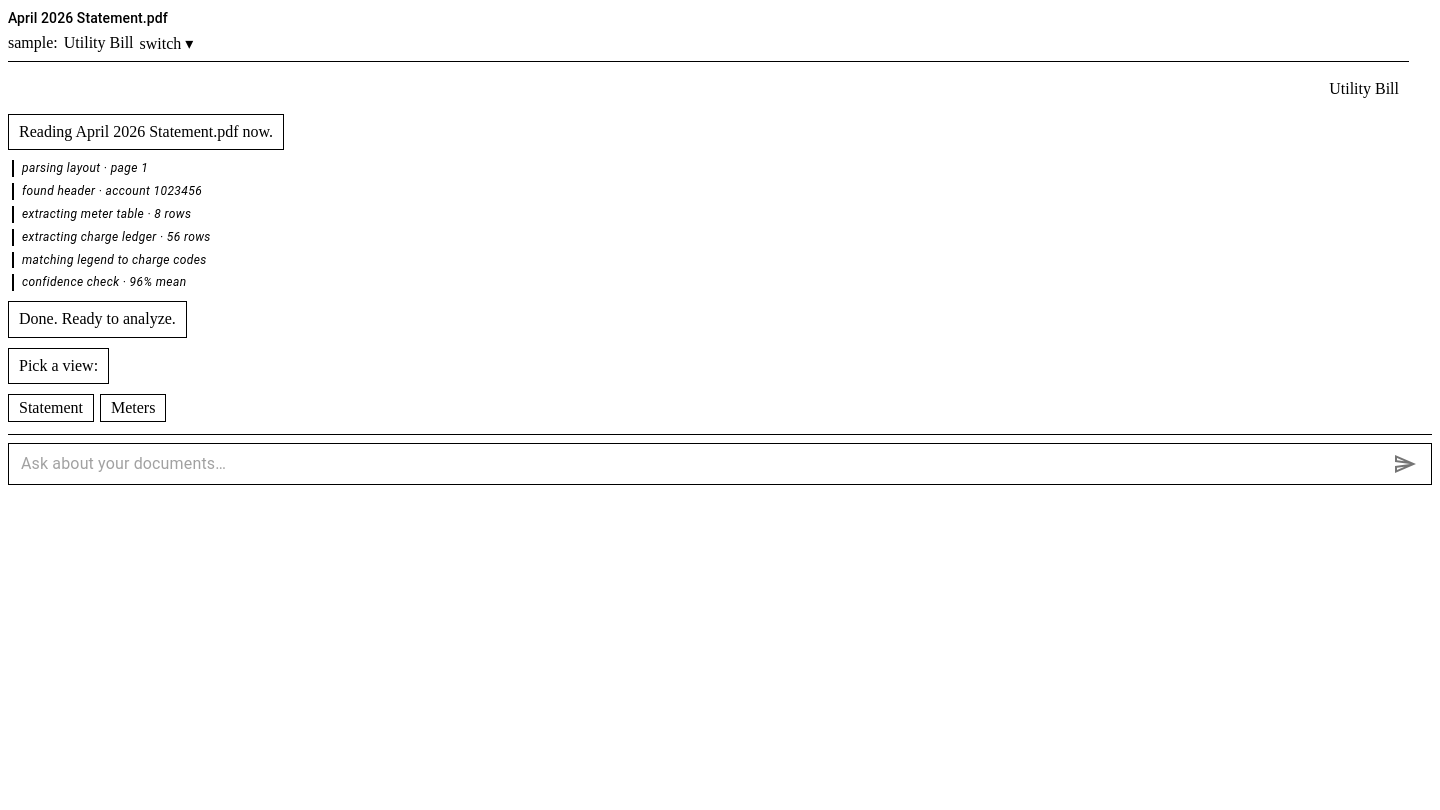
ChatColumn › chat input (CF-18) › 504 → renders 'took too long' copy (CF-08)
Type "Q" into the field with placeholder "Ask about your documents…".
click(702, 464); type("Q")  # box [21,448,1383,480]
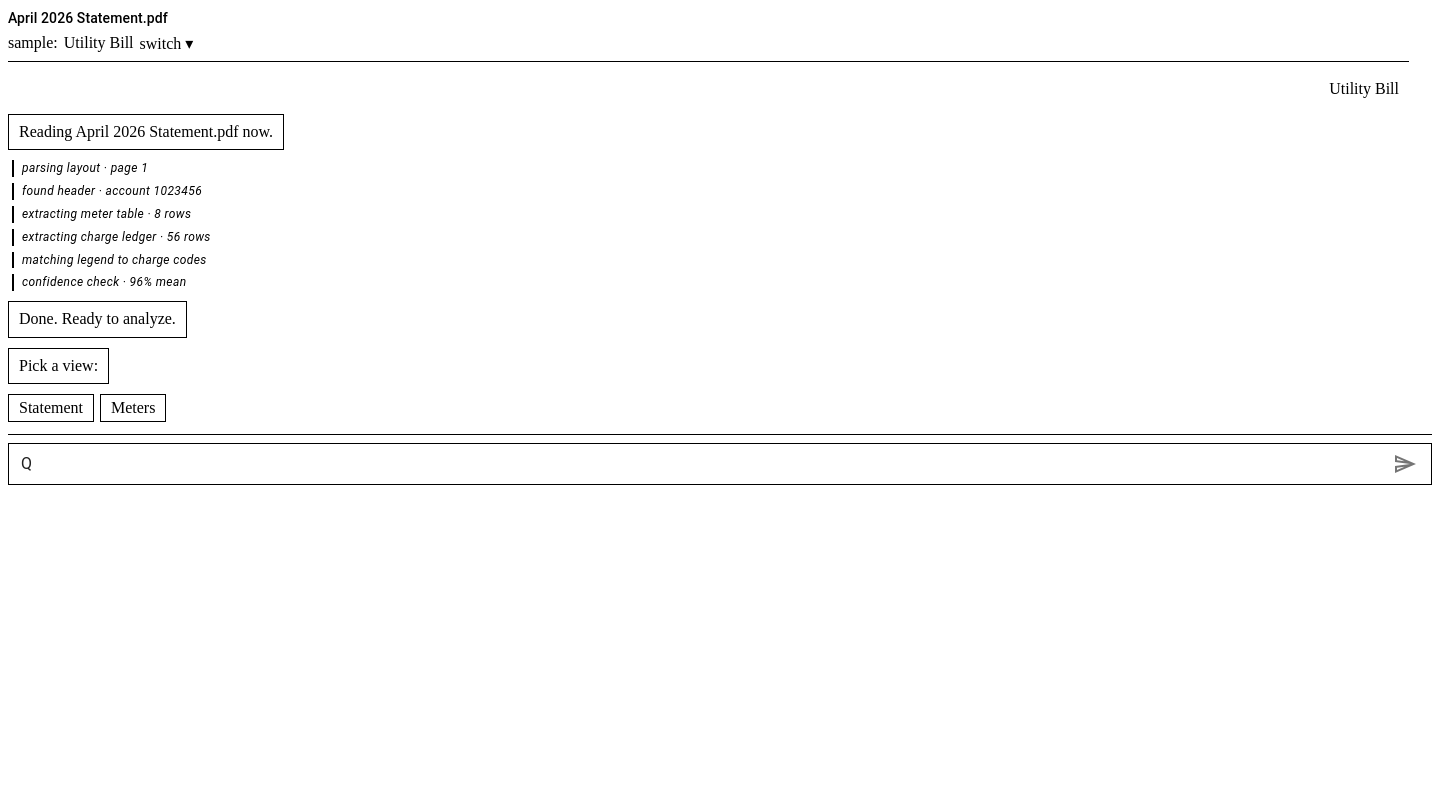
Click the button with test id "chat-live-send".
click(1405, 464)  # box [1391,450,1419,478]
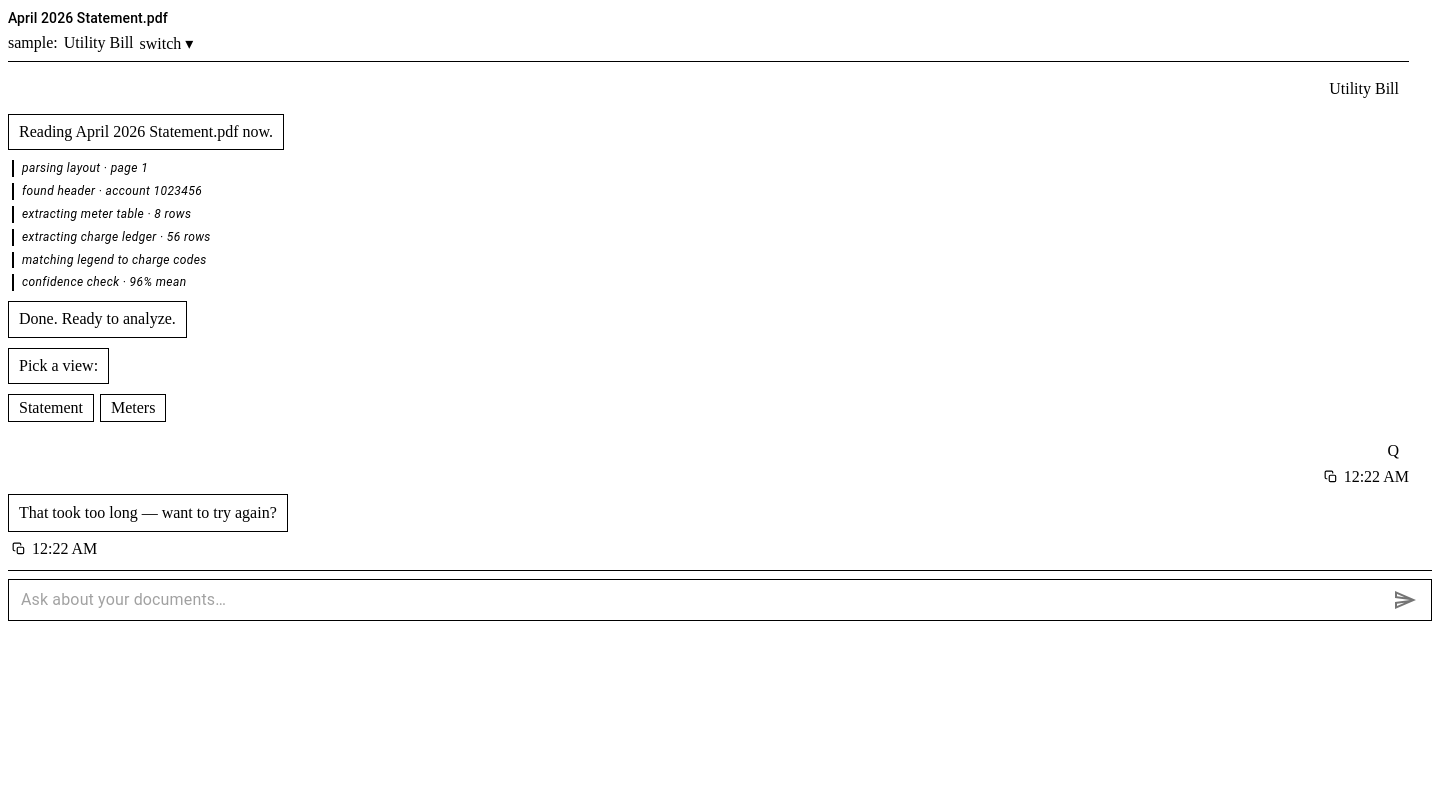
Result: the element with test id "chat-live-assistant" shows "took too long" at [19,504,277,521]
